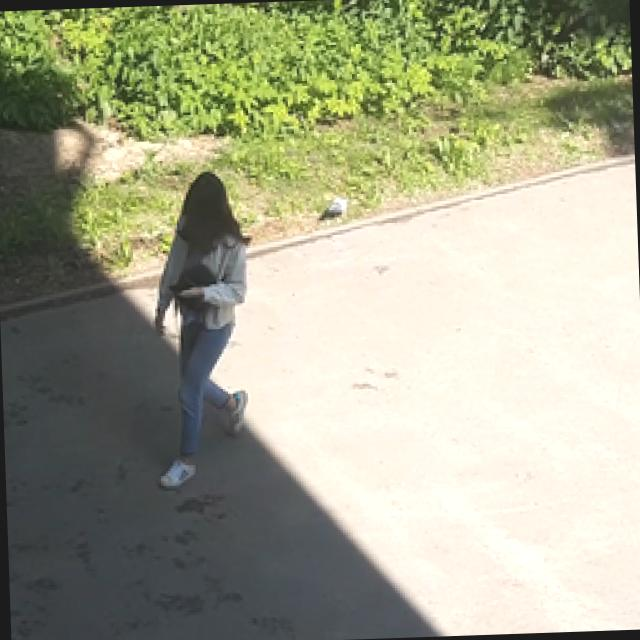person: (147, 170, 260, 488)
